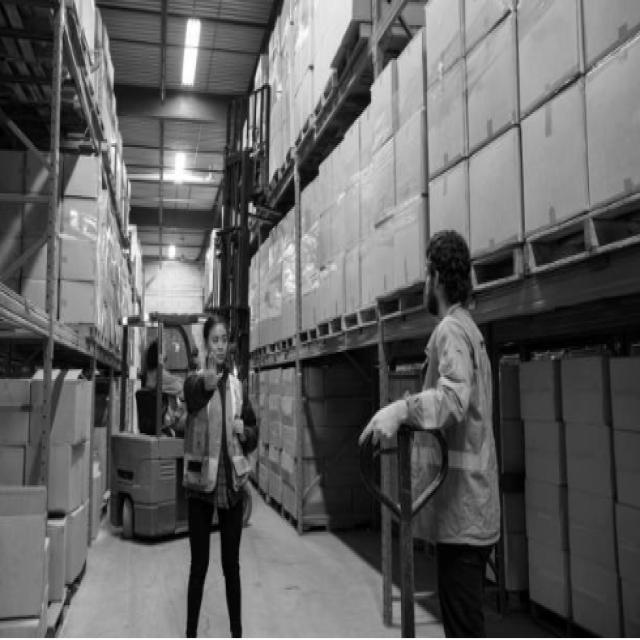vest: (409, 310, 504, 551), (182, 364, 256, 496), (145, 368, 184, 429)
